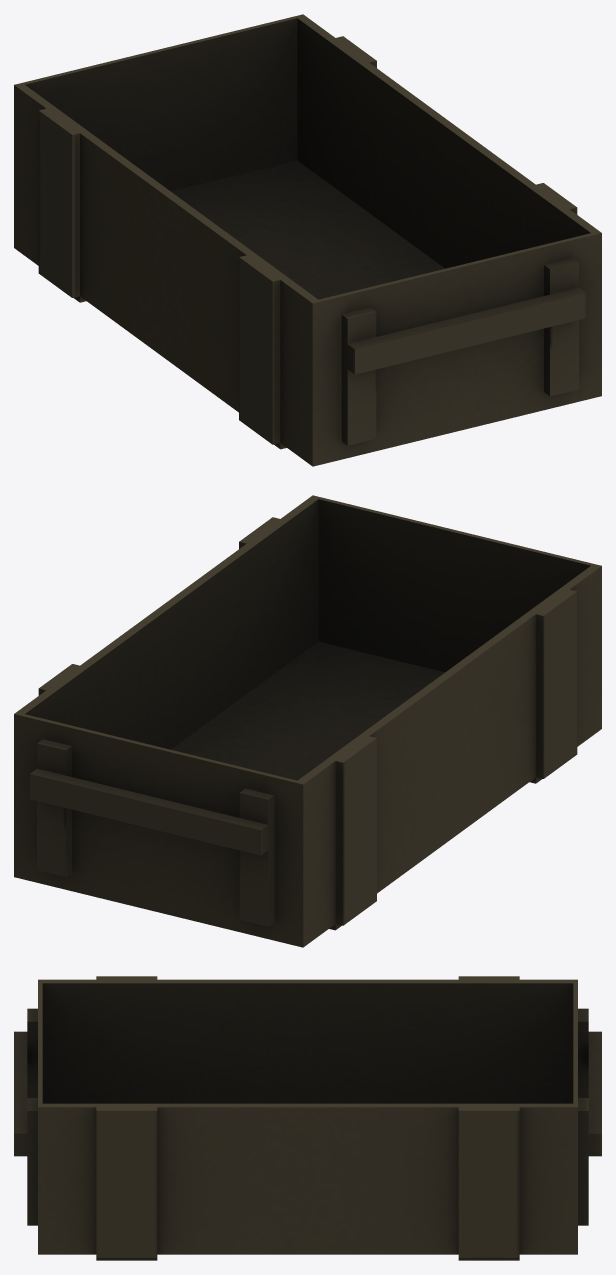
The model's file is Crate_Short.fbx.
3 renders of one model, top to bottom at view 1: azimuth 30°, elevation 25°; view 2: azimuth 150°, elevation 25°; view 3: azimuth 270°, elevation 25°, orthographic. The views are drawn at different scales.
Parts seen in each view (by area): view 1: Crate_Short; view 2: Crate_Short; view 3: Crate_Short.
Boxes of the visible parts, left/top/right/bottom form: Crate_Short: left=14, top=14, right=601, bottom=466; Crate_Short: left=14, top=495, right=601, bottom=947; Crate_Short: left=14, top=976, right=601, bottom=1260.
Size of the model in its own units: 0.7487 by 0.3985 by 1.39.
